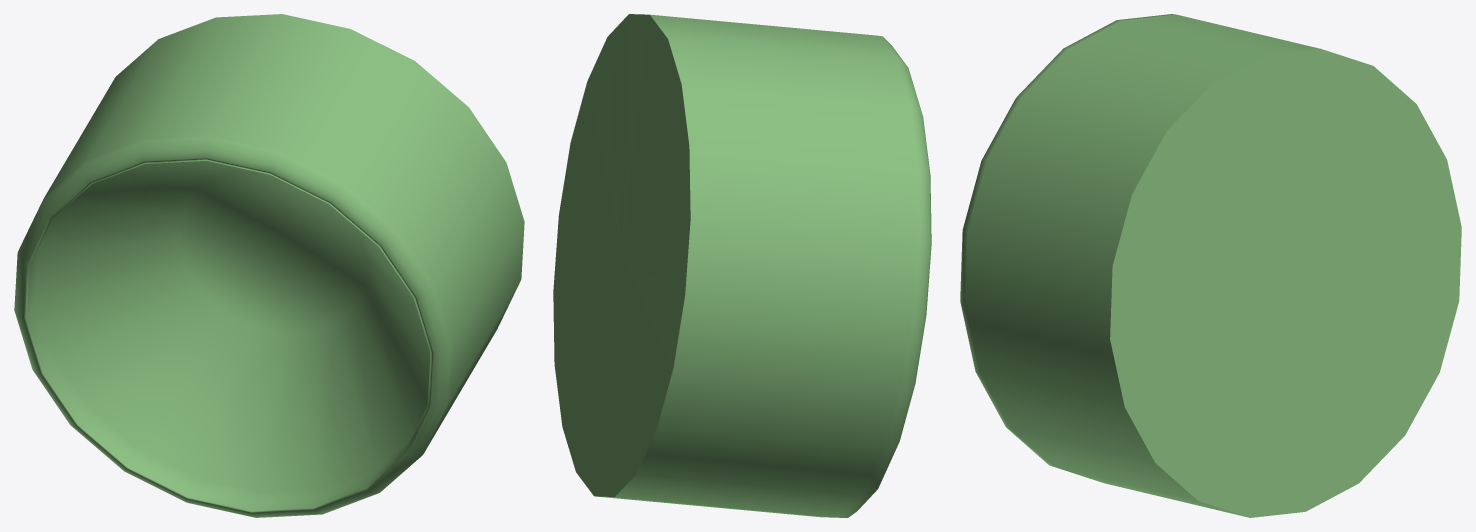
Rendered from TL3_8shapes_Round_Classic_Metal.001 2.glb.
3 views of the same model, side by side, from view 1: azimuth 30°, elevation 25°; view 2: azimuth 150°, elevation 25°; view 3: azimuth 270°, elevation 25° (orthographic). The views are drawn at different scales.
Parts seen in each view (by area): view 1: TL3_8shapes_Round_Classic_Metal.001; view 2: TL3_8shapes_Round_Classic_Metal.001; view 3: TL3_8shapes_Round_Classic_Metal.001.
Part boxes in pixels (<box>): TL3_8shapes_Round_Classic_Metal.001: <box>14,14,524,517</box>; TL3_8shapes_Round_Classic_Metal.001: <box>553,14,931,517</box>; TL3_8shapes_Round_Classic_Metal.001: <box>960,14,1461,517</box>.
Size of the model in its own units: 0.5972 by 0.6032 by 0.5949.
